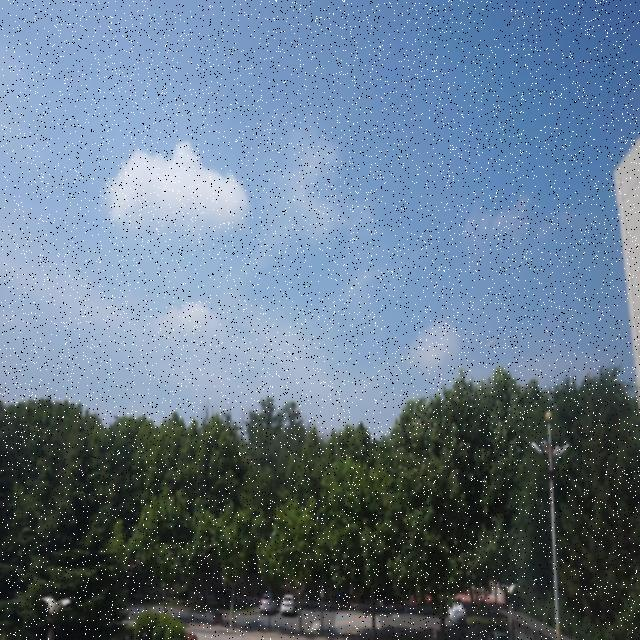UAV: (487, 338, 496, 347)
